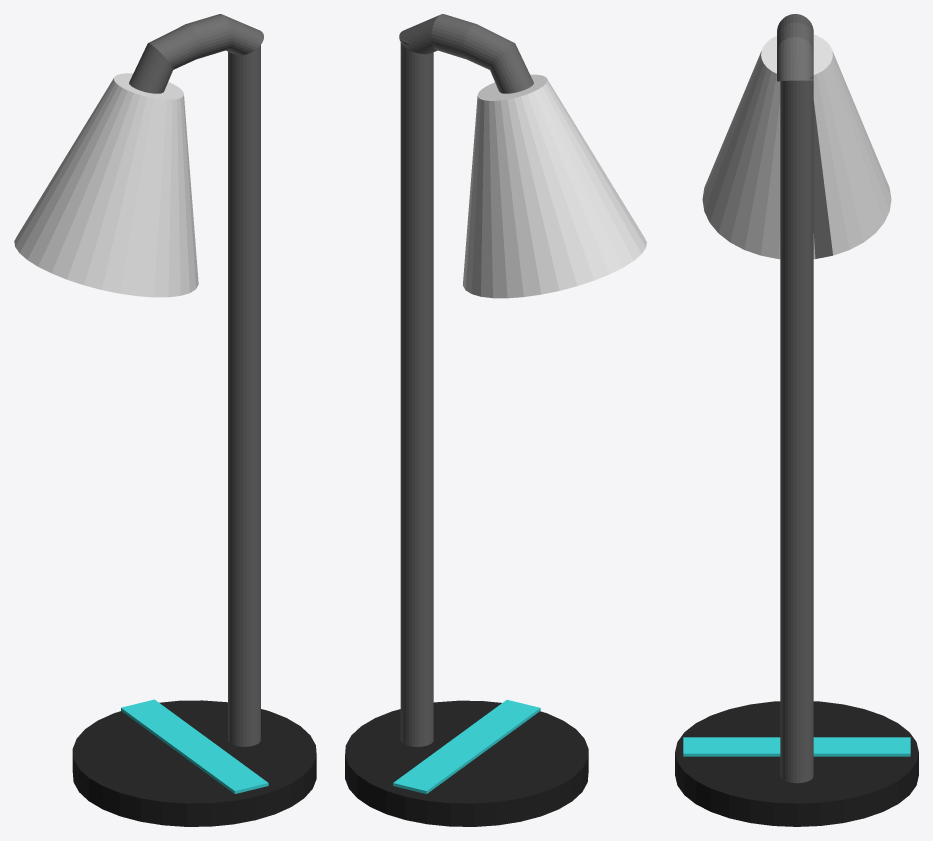
The model's file is ggj2019lamp.fbx.
3 renders of one model, left to right at view 1: azimuth 30°, elevation 25°; view 2: azimuth 150°, elevation 25°; view 3: azimuth 270°, elevation 25°, orthographic.
Parts seen in each view (by area): view 1: Cylinder; view 2: Cylinder; view 3: Cylinder.
Boxes of the visible parts, left/top/right/bottom form: Cylinder: left=14, top=14, right=316, bottom=826; Cylinder: left=345, top=14, right=646, bottom=826; Cylinder: left=675, top=14, right=918, bottom=826.
Bounding box in the file's own units: 67.32 × 177 × 52.14.
